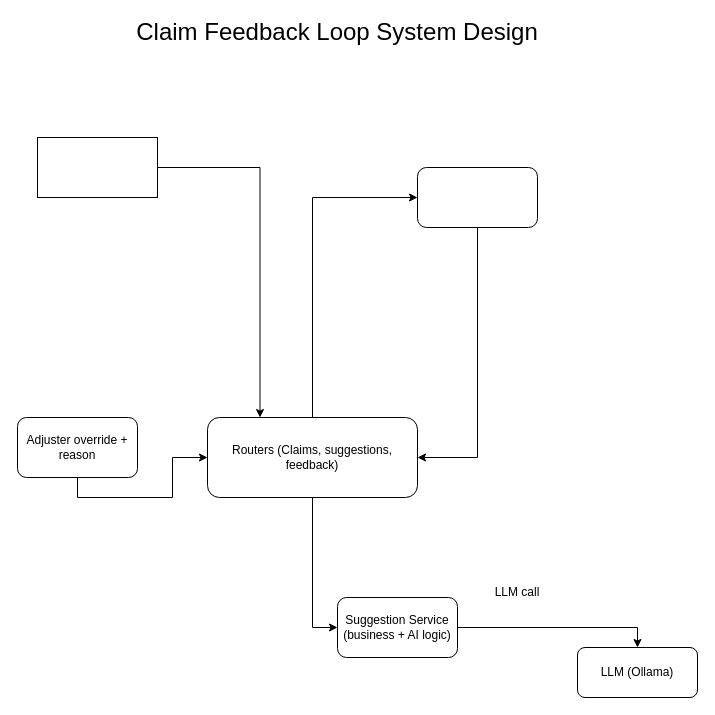
This 715x715 diagram has some shape labels left out. Each missing label, with the box of its shape:
API client (curl/Swagger UI): (36, 136, 158, 198)
Postgres / SQLite org-scoped tables: (416, 166, 538, 228)
